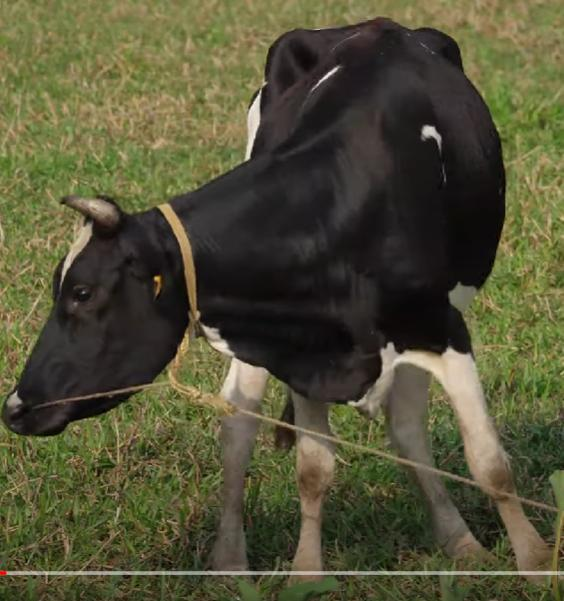cow: (3, 20, 556, 585)
